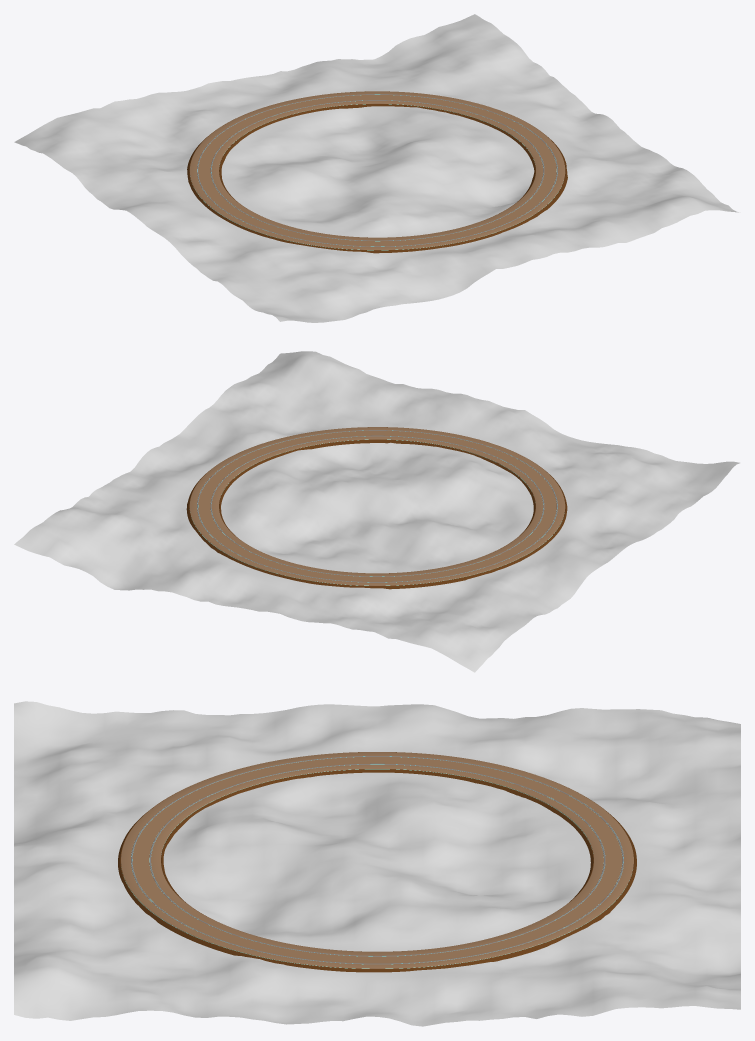
3 views of the same model, one above another, from view 1: azimuth 30°, elevation 25°; view 2: azimuth 150°, elevation 25°; view 3: azimuth 270°, elevation 25° (orthographic). The views are drawn at different scales.
Visible parts, largest first — view 1: Plane002, Loft002; view 2: Plane002, Loft002; view 3: Plane002, Loft002.
Part boxes in pixels (bbox=[...]): Plane002: bbox=[14, 14, 738, 322]; Loft002: bbox=[187, 91, 567, 253]; Plane002: bbox=[14, 351, 739, 672]; Loft002: bbox=[186, 427, 567, 589]; Plane002: bbox=[14, 701, 740, 1026]; Loft002: bbox=[118, 752, 636, 972].
Size of the model in its own units: 1969 by 133 by 1969.
